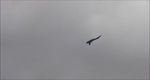maybay_muctieu: (86, 33, 102, 45)
